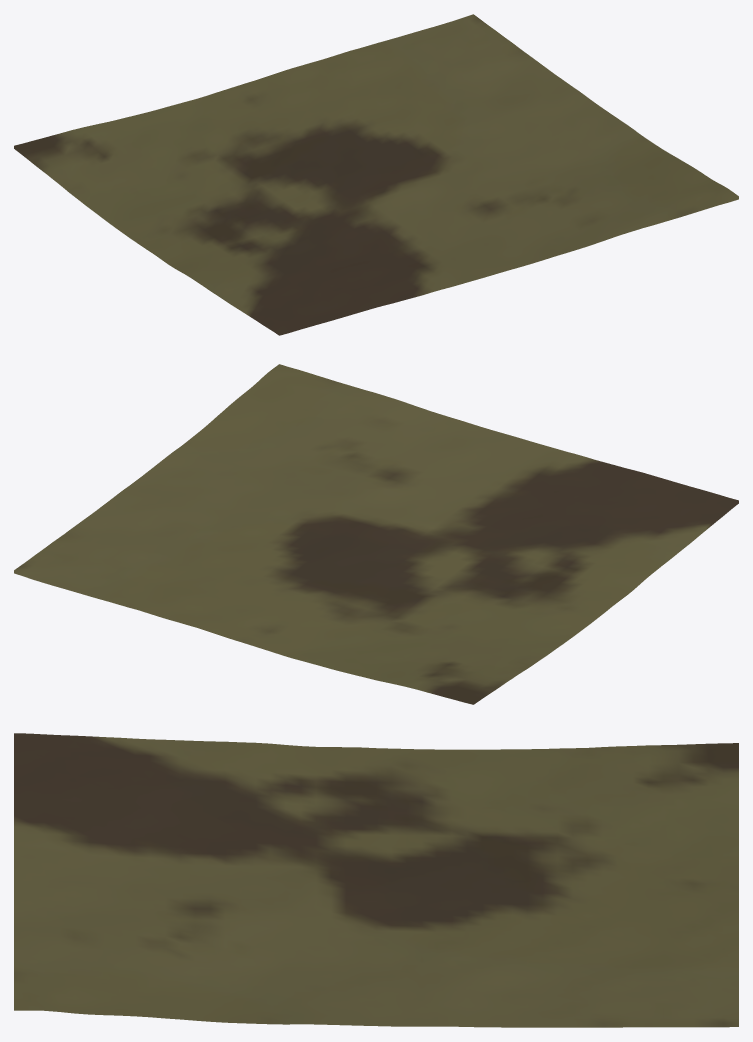
File: land_m_14_09.glb
3 renders of one model, top to bottom at view 1: azimuth 30°, elevation 25°; view 2: azimuth 150°, elevation 25°; view 3: azimuth 270°, elevation 25°, orthographic. The views are drawn at different scales.
Visible parts, largest first — view 1: land_m_14_09; view 2: land_m_14_09; view 3: land_m_14_09.
Part boxes in pixels (left/top/right/bottom): land_m_14_09: left=14, top=14, right=738, bottom=335; land_m_14_09: left=14, top=364, right=738, bottom=704; land_m_14_09: left=14, top=733, right=738, bottom=1027.
Size of the model in its own units: 960 by 78.57 by 960.
